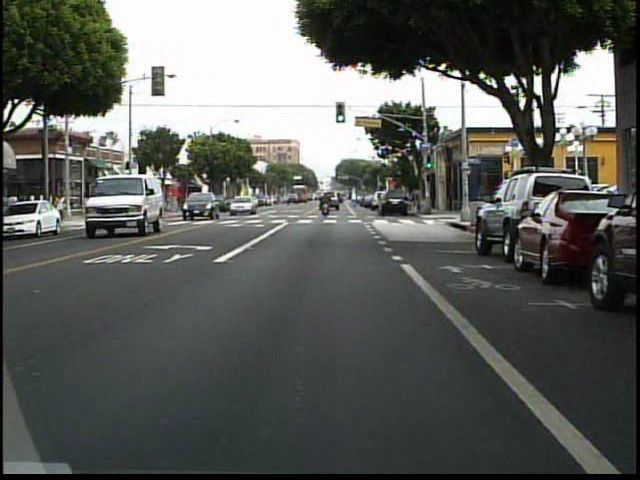person: (54, 189, 70, 229), (321, 189, 335, 219), (79, 189, 92, 221), (95, 190, 107, 221)
